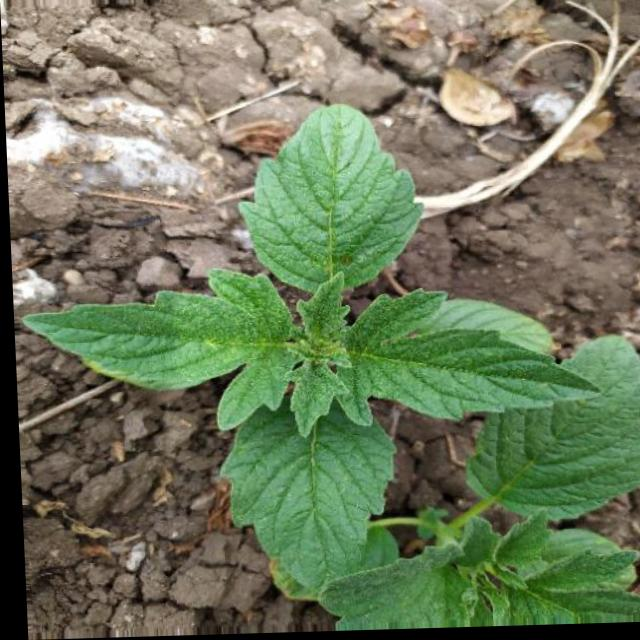crop: (14, 87, 595, 584)
